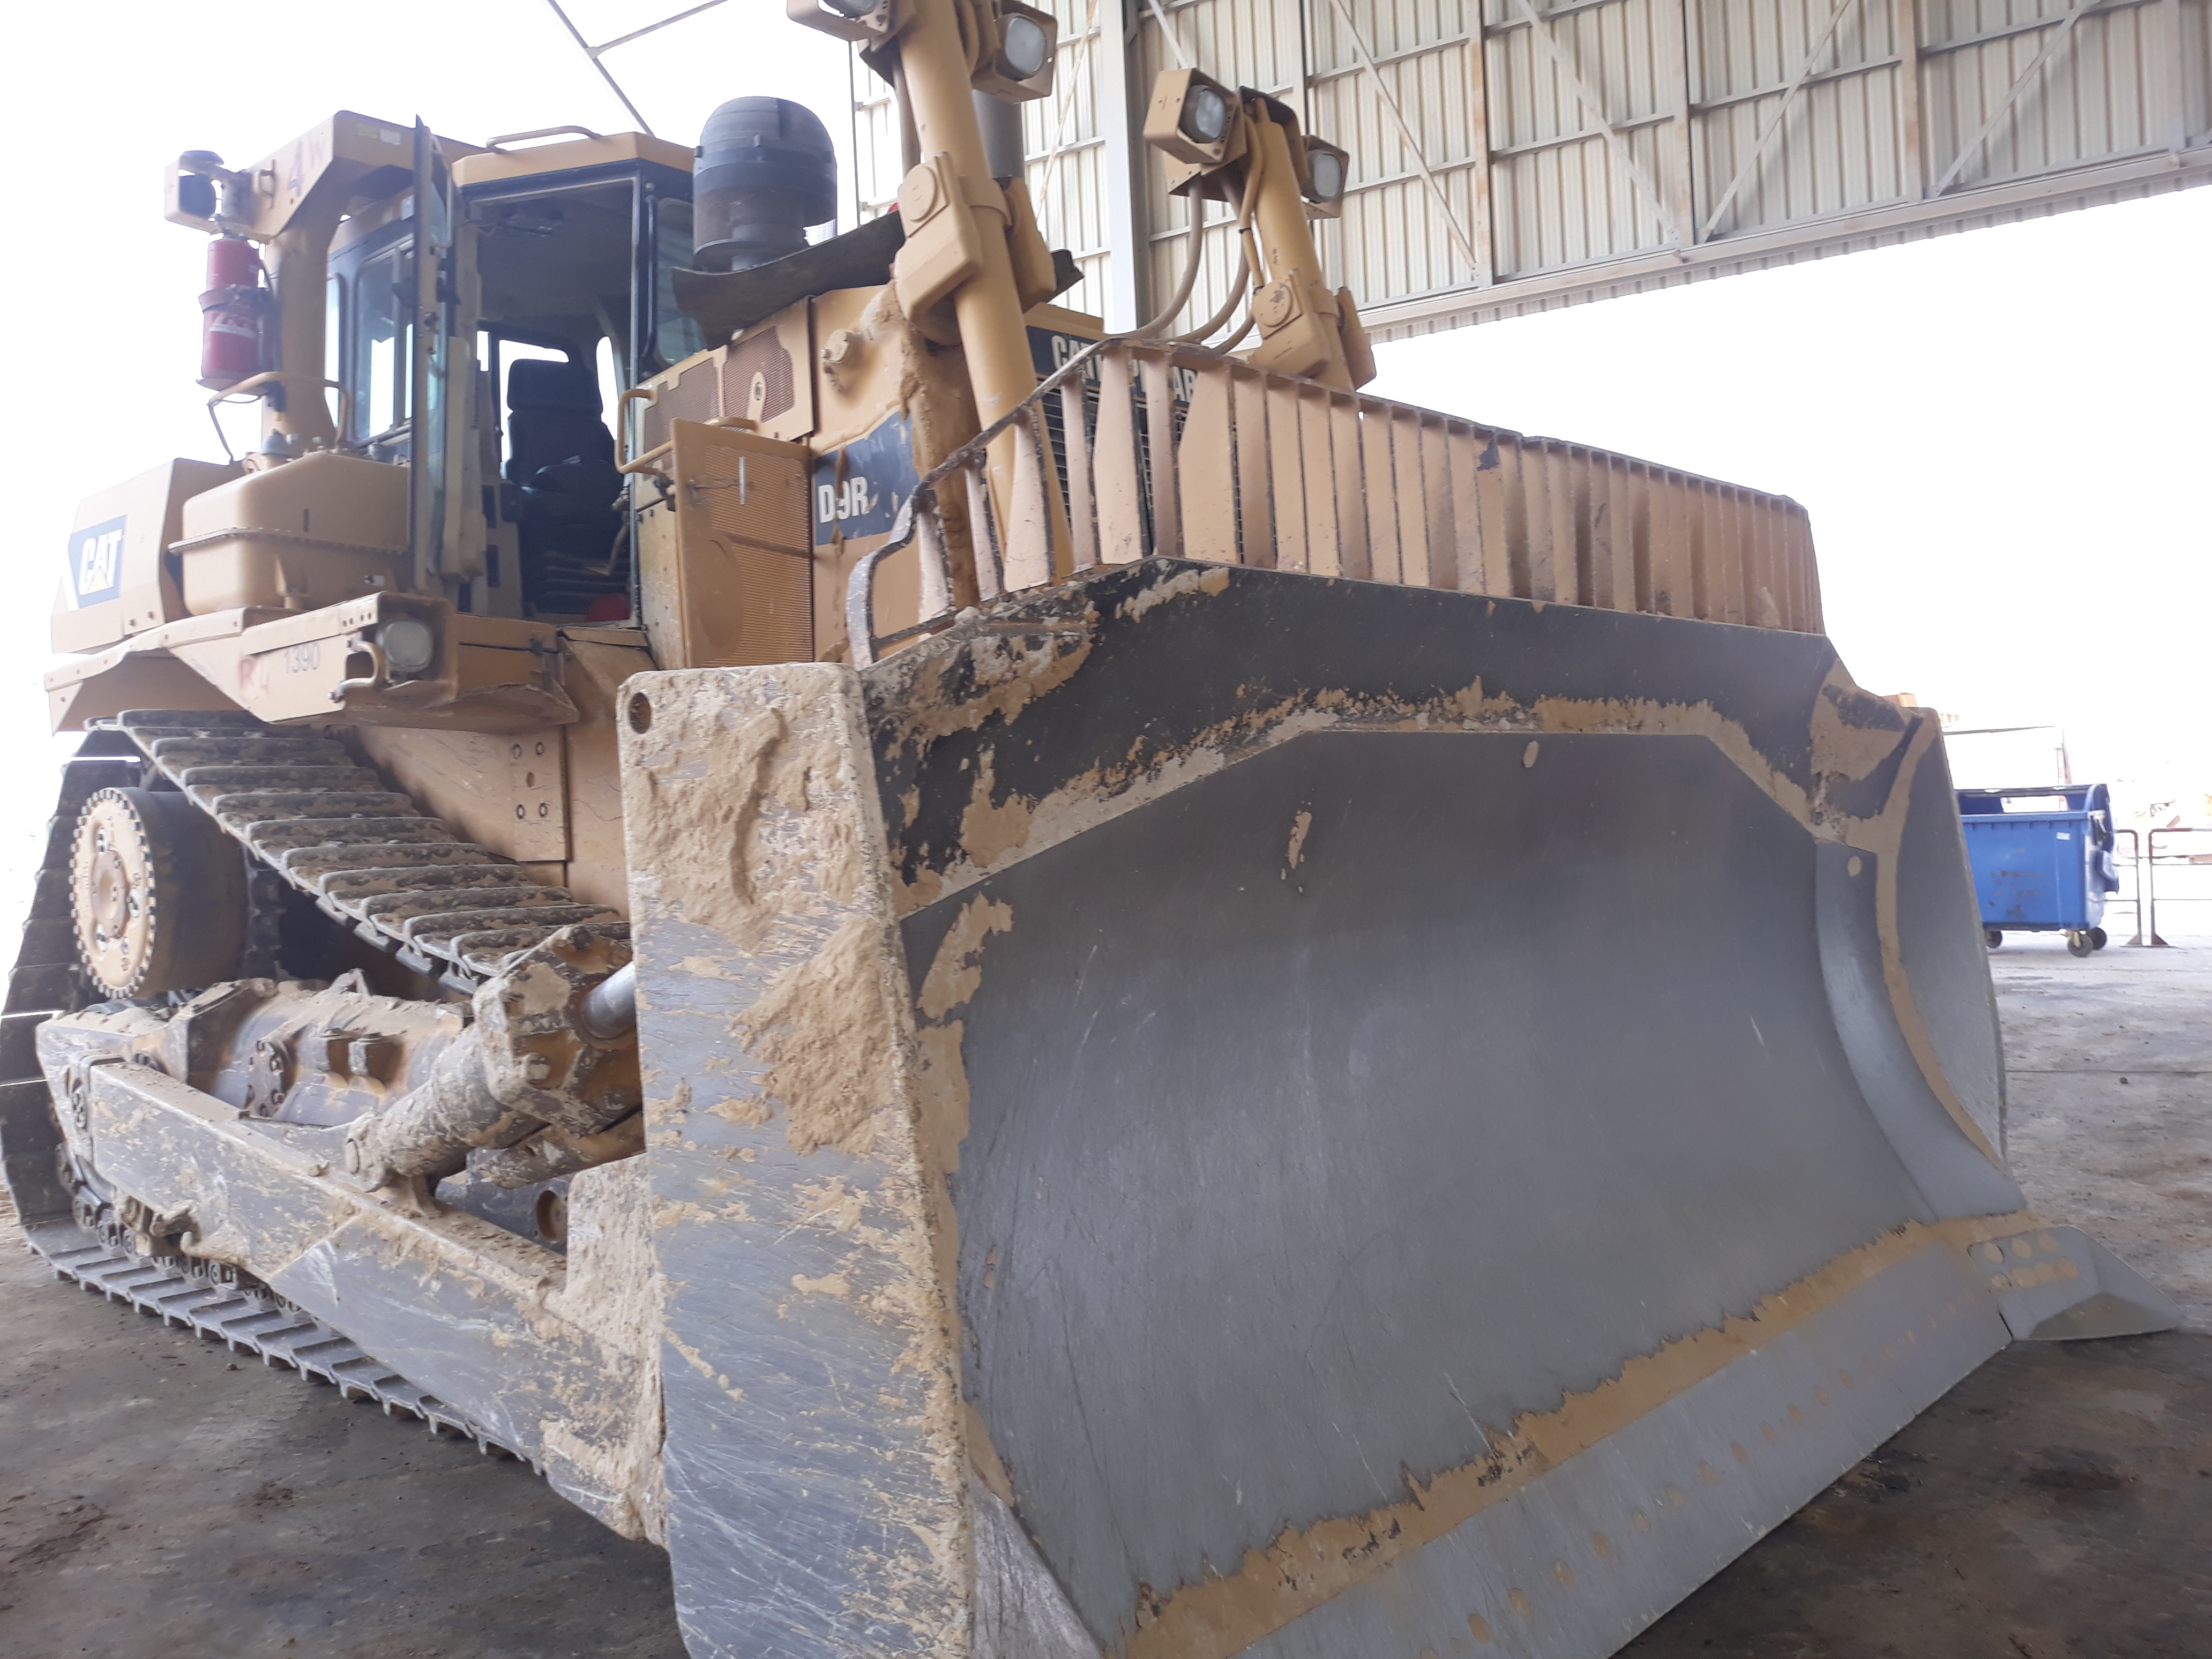bulldozer: (17, 68, 2038, 1629)
